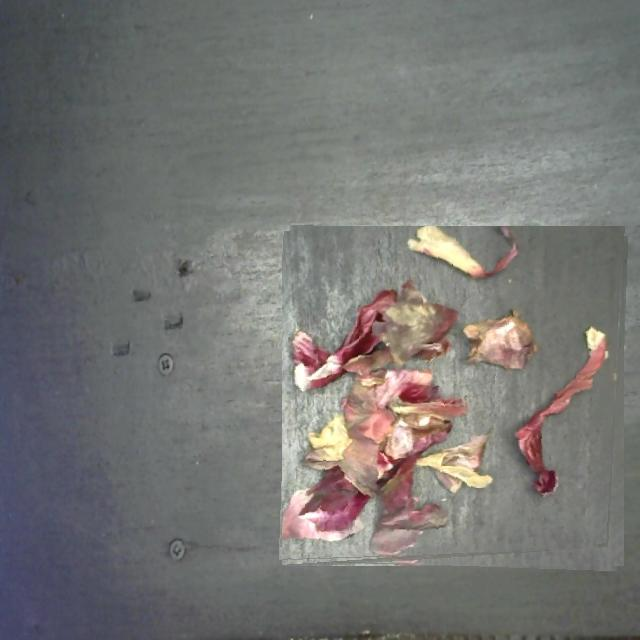biodegradable: (282, 226, 626, 570)
